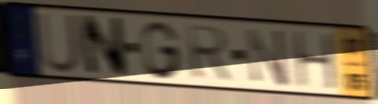G: (139, 18, 184, 81)
H: (290, 29, 340, 92)
N: (78, 13, 129, 79), (244, 26, 291, 89)
R: (183, 23, 234, 82)
U: (35, 10, 84, 76)
